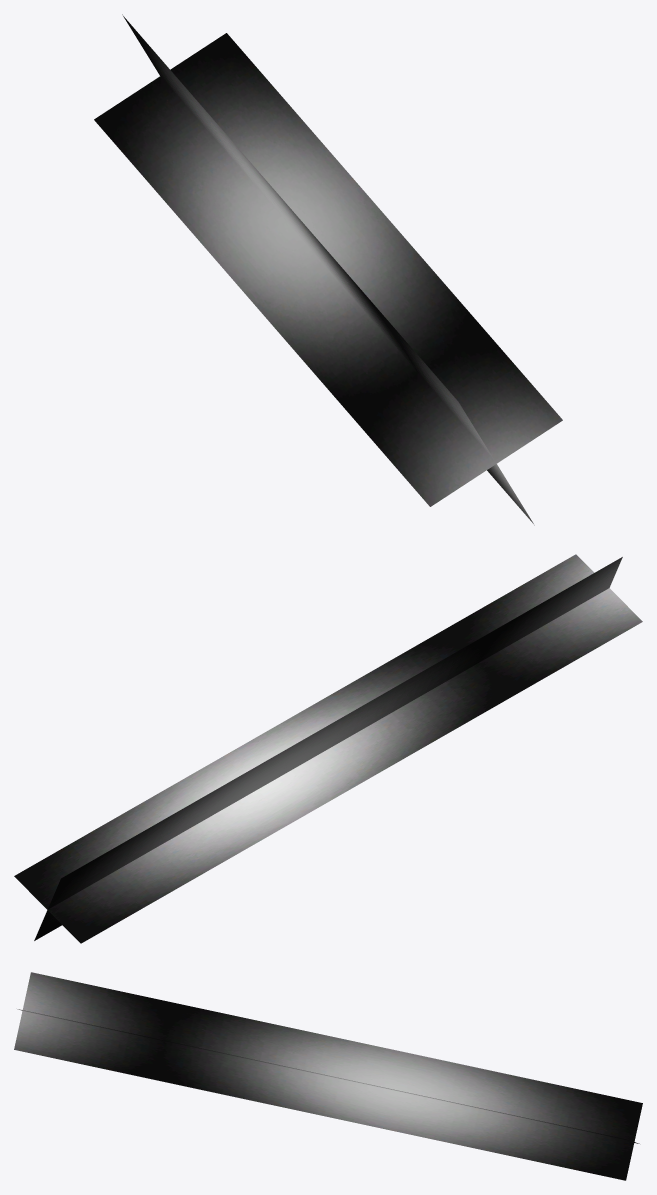
The model's file is vfx_kurp_0915.dae.
3 renders of one model, top to bottom at view 1: azimuth 30°, elevation 25°; view 2: azimuth 150°, elevation 25°; view 3: azimuth 270°, elevation 25°, orthographic. The views are drawn at different scales.
Visible parts, largest first — view 1: vfx_kurp_0915; view 2: vfx_kurp_0915; view 3: vfx_kurp_0915.
Part boxes in pixels (x1,y1,x2,y2): vfx_kurp_0915: [94, 14, 562, 525]; vfx_kurp_0915: [14, 554, 642, 943]; vfx_kurp_0915: [14, 972, 642, 1180].
Bounding box in the file's own units: 0.5159 × 1.42 × 0.317.
Materials: 1 (1 with a texture image).
